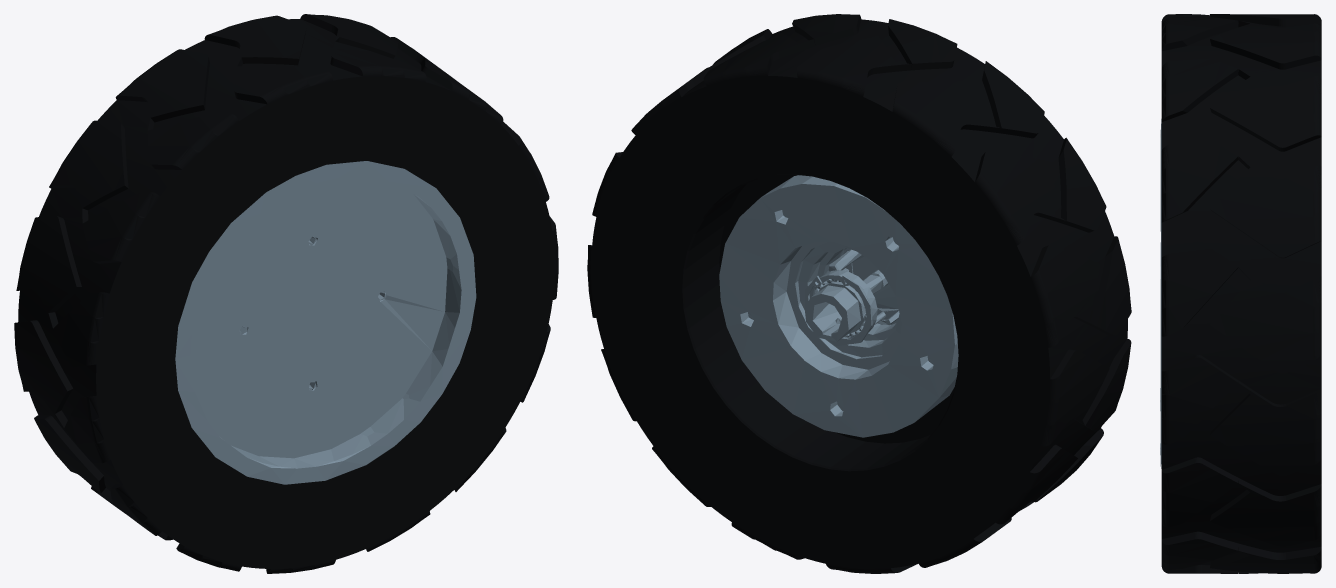
File: wheel_RL.dae
3 views of the same model, side by side, from view 1: azimuth 30°, elevation 25°; view 2: azimuth 150°, elevation 25°; view 3: azimuth 270°, elevation 25° (orthographic). The views are drawn at different scales.
Visible parts, largest first — view 1: node; view 2: node; view 3: node.
Boxes of the visible parts, x1,y1,x2,y2 form: node: (14,14,558,573); node: (587,14,1131,573); node: (1160,14,1321,573).
Size of the model in its own units: 0.35 by 0.1009 by 0.35.
